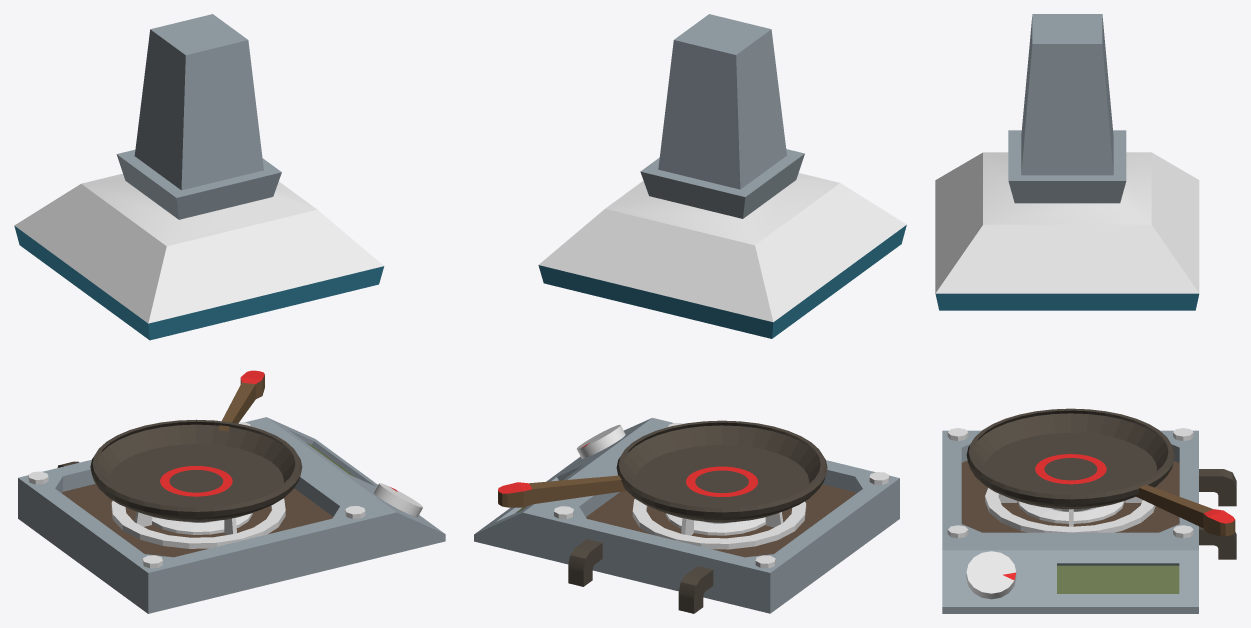
The model's file is 3D_workstation_gas cooker.fbx.
3 views of the same model, side by side, from view 1: azimuth 30°, elevation 25°; view 2: azimuth 150°, elevation 25°; view 3: azimuth 270°, elevation 25° (orthographic).
Visible parts, largest first — view 1: 3D_workstation_gas cooker_plate, 3D_workstation_gas cooker_stove, 3D_workstation_gas cooker_Buton; view 2: 3D_workstation_gas cooker_plate, 3D_workstation_gas cooker_stove, 3D_workstation_gas cooker_Buton; view 3: 3D_workstation_gas cooker_plate, 3D_workstation_gas cooker_stove, 3D_workstation_gas cooker_Buton.
Boxes of the visible parts, x1,y1,x2,y2 form: 3D_workstation_gas cooker_plate: (14, 14, 445, 613); 3D_workstation_gas cooker_stove: (90, 370, 302, 521); 3D_workstation_gas cooker_Buton: (374, 483, 422, 517); 3D_workstation_gas cooker_plate: (474, 14, 906, 613); 3D_workstation_gas cooker_stove: (498, 420, 827, 522); 3D_workstation_gas cooker_Buton: (577, 425, 625, 458); 3D_workstation_gas cooker_plate: (935, 14, 1236, 613); 3D_workstation_gas cooker_stove: (966, 408, 1235, 536); 3D_workstation_gas cooker_Buton: (966, 551, 1016, 599).
Size of the model in its own units: 2.58 by 4.15 by 2.28.
